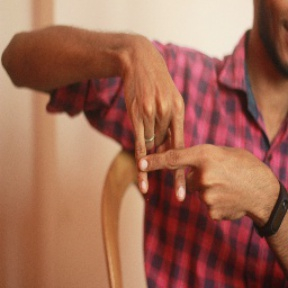H: (120, 101, 217, 205)
